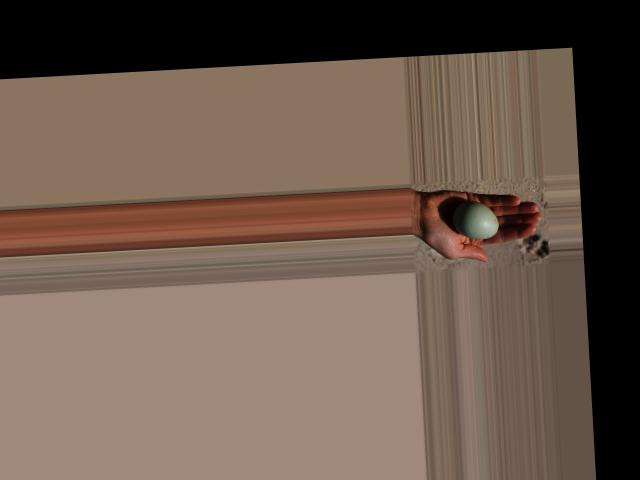egg: (452, 199, 498, 239)
